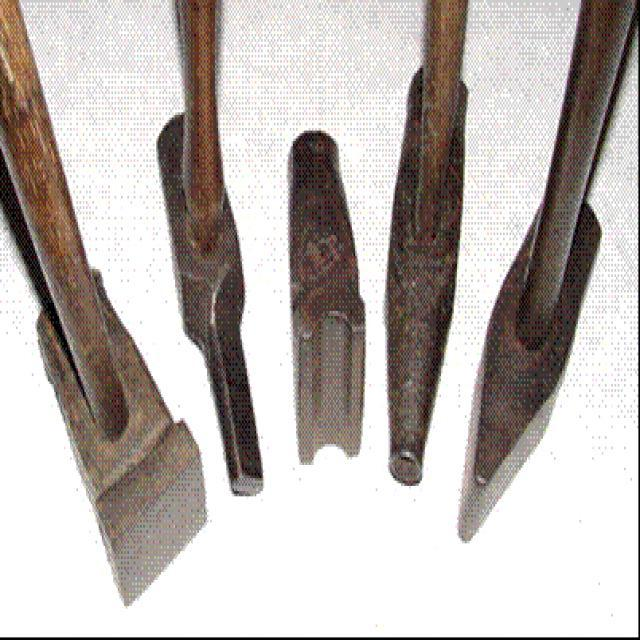hammer: (0, 0, 210, 611), (450, 0, 640, 554), (151, 0, 269, 507), (366, 0, 473, 494)
